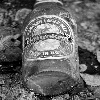beer: (19, 2, 84, 100)
